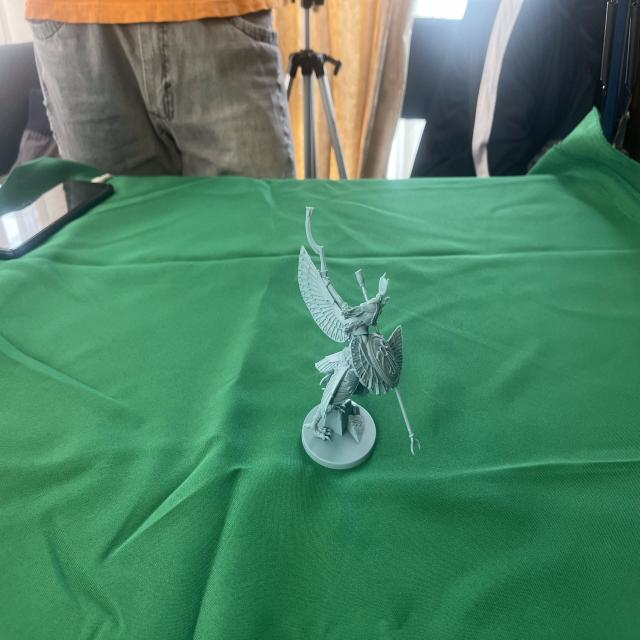isis: (281, 182, 428, 492)
